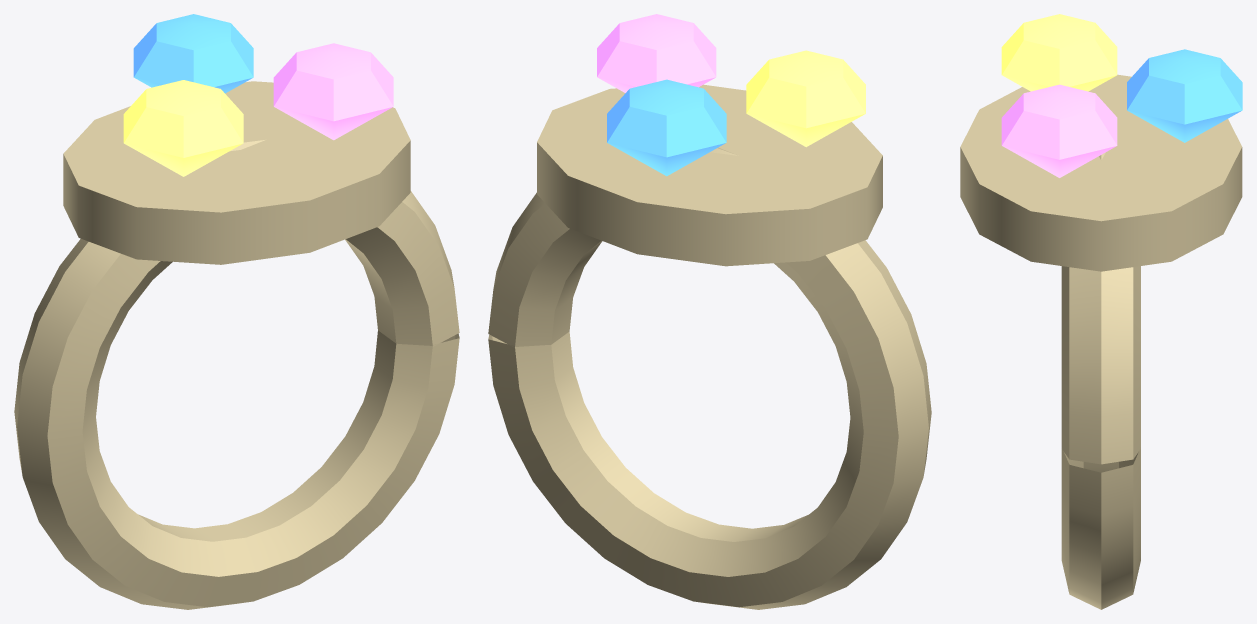
The model's file is starcluster_ring.glb.
3 renders of one model, left to right at view 1: azimuth 30°, elevation 25°; view 2: azimuth 150°, elevation 25°; view 3: azimuth 270°, elevation 25°, orthographic. The views are drawn at different scales.
Visible parts, largest first — view 1: starcluster_ring; view 2: starcluster_ring; view 3: starcluster_ring.
Boxes of the visible parts, x1,y1,x2,y2 form: starcluster_ring: (14, 14, 459, 609); starcluster_ring: (488, 14, 931, 609); starcluster_ring: (960, 14, 1242, 609).
Bounding box in the file's own units: 0.0264 × 0.0315 × 0.0152.
